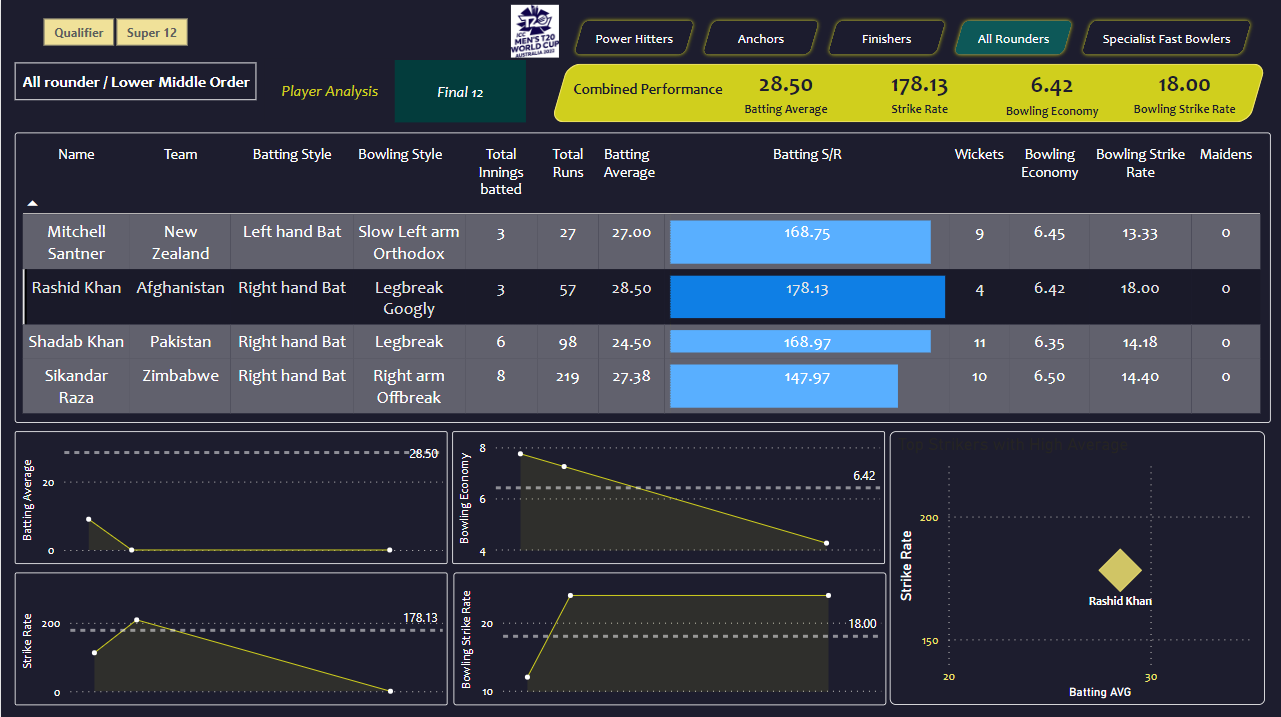

What the dashboard file says about the page in this screenshot:
{"tool":"powerbi","page":{"name":"All Rounder/Lower Middle Order","canvas":[1280,720],"ordinal":3},"visuals":[{"type":"tableEx","fields":{"Values":["dim_players.name","dim_players.team","dim_players.battingStyle","dim_players.bowlingStyle","Key_majors.Total Innings batted","Key_majors.Total Runs","Key_majors.Batting Average","Key_majors.Strike Rate","Key_majors.Wickets","Key_majors.Bowling Economy","Key_majors.Bowling Strike Rate","Sum(fact_bowling_summary.maiden)"]},"box":[13.8,132.5,1256.2,290],"z":0},{"type":"stackedAreaChart","fields":{"Y":["Key_majors.Batting Average"],"Category":["dim_match_summary.matchDate.Variation.Date Hierarchy.Day"]},"box":[13.3,431.8,433,132.7],"z":1000},{"type":"stackedAreaChart","fields":{"Category":["dim_match_summary.matchDate.Variation.Date Hierarchy.Day"],"Y":["Key_majors.Bowling Economy"]},"box":[451.1,431.8,433,132.7],"z":2000},{"type":"stackedAreaChart","fields":{"Category":["dim_match_summary.matchDate.Variation.Date Hierarchy.Day"],"Y":["Key_majors.Bowling Strike Rate"]},"box":[452,572.9,433,132.7],"z":3000},{"type":"stackedAreaChart","fields":{"Category":["dim_match_summary.matchDate.Variation.Date Hierarchy.Day"],"Y":["Key_majors.Strike Rate"]},"box":[13.3,572.9,433,132.7],"z":4000},{"type":"scatterChart","title":"Top Strikers with High Average","fields":{"X":["Key_majors.Batting Average"],"Y":["Key_majors.Strike Rate"],"Category":["dim_players.name"]},"box":[888.8,431.2,375,273.8],"z":5000},{"type":"slicer","fields":{"Values":["dim_match_summary.Stage"]},"box":[15.7,10.9,194.2,41],"z":6000},{"type":"shape","box":[13.8,62.5,241.2,37.5],"z":7000},{"type":"shape","box":[550,63.8,715,58.8],"z":8000},{"type":"actionButton","box":[568.8,16.2,128.8,42.5],"z":9000},{"type":"actionButton","box":[697.5,16.2,125,42.5],"z":10000},{"type":"actionButton","box":[822.5,16.2,126.2,42.5],"z":11000},{"type":"actionButton","box":[948.8,16.2,127.5,42.5],"z":12000},{"type":"actionButton","box":[1076.2,16.2,178.8,42.5],"z":13000},{"type":"shape","box":[568.8,71.2,156.2,36.2],"z":14000},{"type":"card","fields":{"Values":["Key_majors.Batting Average"]},"box":[718.8,58.8,132.5,63.8],"z":15000},{"type":"card","fields":{"Values":["Key_majors.Strike Rate"]},"box":[852.5,58.8,132.5,63.8],"z":16000},{"type":"card","fields":{"Values":["Key_majors.Bowling Economy"]},"box":[985,60,132.5,63.8],"z":17000},{"type":"card","fields":{"Values":["Key_majors.Bowling Strike Rate"]},"box":[1117.5,58.8,132.5,63.8],"z":18000},{"type":"actionButton","box":[263.8,58.8,130,62.5],"z":19000},{"type":"image","box":[499.3,0,69.9,62.7],"z":20000},{"type":"shape","box":[628.8,75,578.8,36.2],"z":20001},{"type":"actionButton","box":[393.8,60,131.2,62.5],"z":20002}]}

Visuals, with their boxes in screenshot pixels (x1, y1, x2, y2), scaled from the page's 1280x720 canvas onto the 1281x717 screenshot:
tableEx - dim_players.name x dim_players.team: bbox=[14, 132, 1271, 421]
stackedAreaChart - Key_majors.Batting Average x dim_match_summary.matchDate.Variation.Date Hierarchy.Day: bbox=[13, 430, 447, 562]
stackedAreaChart - dim_match_summary.matchDate.Variation.Date Hierarchy.Day x Key_majors.Bowling Economy: bbox=[451, 430, 885, 562]
stackedAreaChart - dim_match_summary.matchDate.Variation.Date Hierarchy.Day x Key_majors.Bowling Strike Rate: bbox=[452, 571, 886, 703]
stackedAreaChart - dim_match_summary.matchDate.Variation.Date Hierarchy.Day x Key_majors.Strike Rate: bbox=[13, 571, 447, 703]
"Top Strikers with High Average" scatterChart: bbox=[889, 429, 1265, 702]
slicer - dim_match_summary.Stage: bbox=[16, 11, 210, 52]
shape: bbox=[14, 62, 255, 100]
shape: bbox=[550, 64, 1266, 122]
actionButton: bbox=[569, 16, 698, 58]
actionButton: bbox=[698, 16, 823, 58]
actionButton: bbox=[823, 16, 949, 58]
actionButton: bbox=[950, 16, 1077, 58]
actionButton: bbox=[1077, 16, 1256, 58]
shape: bbox=[569, 71, 726, 107]
card - Key_majors.Batting Average: bbox=[719, 59, 852, 122]
card - Key_majors.Strike Rate: bbox=[853, 59, 986, 122]
card - Key_majors.Bowling Economy: bbox=[986, 60, 1118, 123]
card - Key_majors.Bowling Strike Rate: bbox=[1118, 59, 1251, 122]
actionButton: bbox=[264, 59, 394, 121]
image: bbox=[500, 0, 570, 62]
shape: bbox=[629, 75, 1209, 111]
actionButton: bbox=[394, 60, 525, 122]
